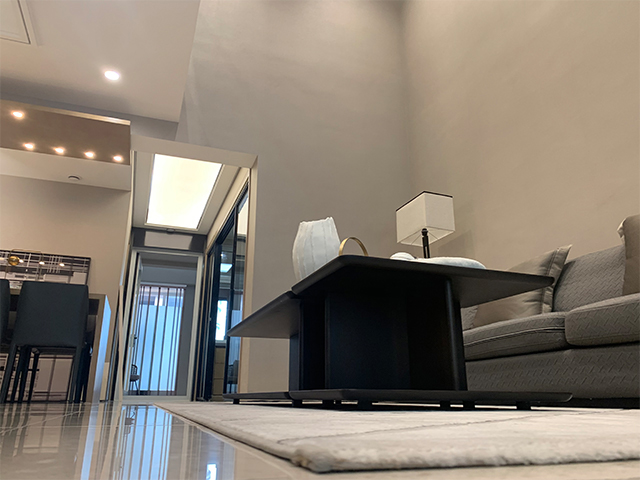carpet: (153, 400, 640, 476)
sofa: (461, 213, 640, 410)
stool: (1, 279, 93, 404)
table: (221, 254, 575, 411)
